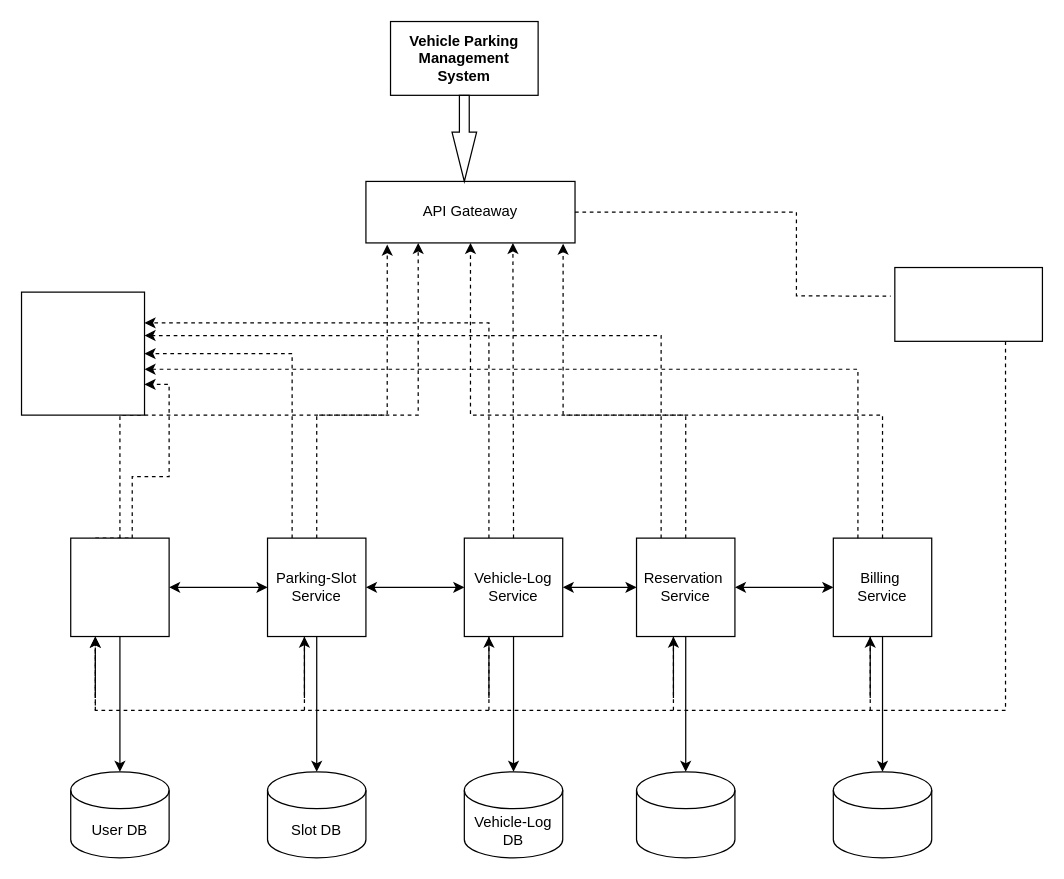
This 1064x879 diagram has some shape labels left out. Each missing label, with the centre of its shape:
Billing DB: pixel 882 814
Discovery Service: pixel 968 303
Reservation DB: pixel 685 814
Server Registry Eureka: pixel 82 353
User Service: pixel 119 587
